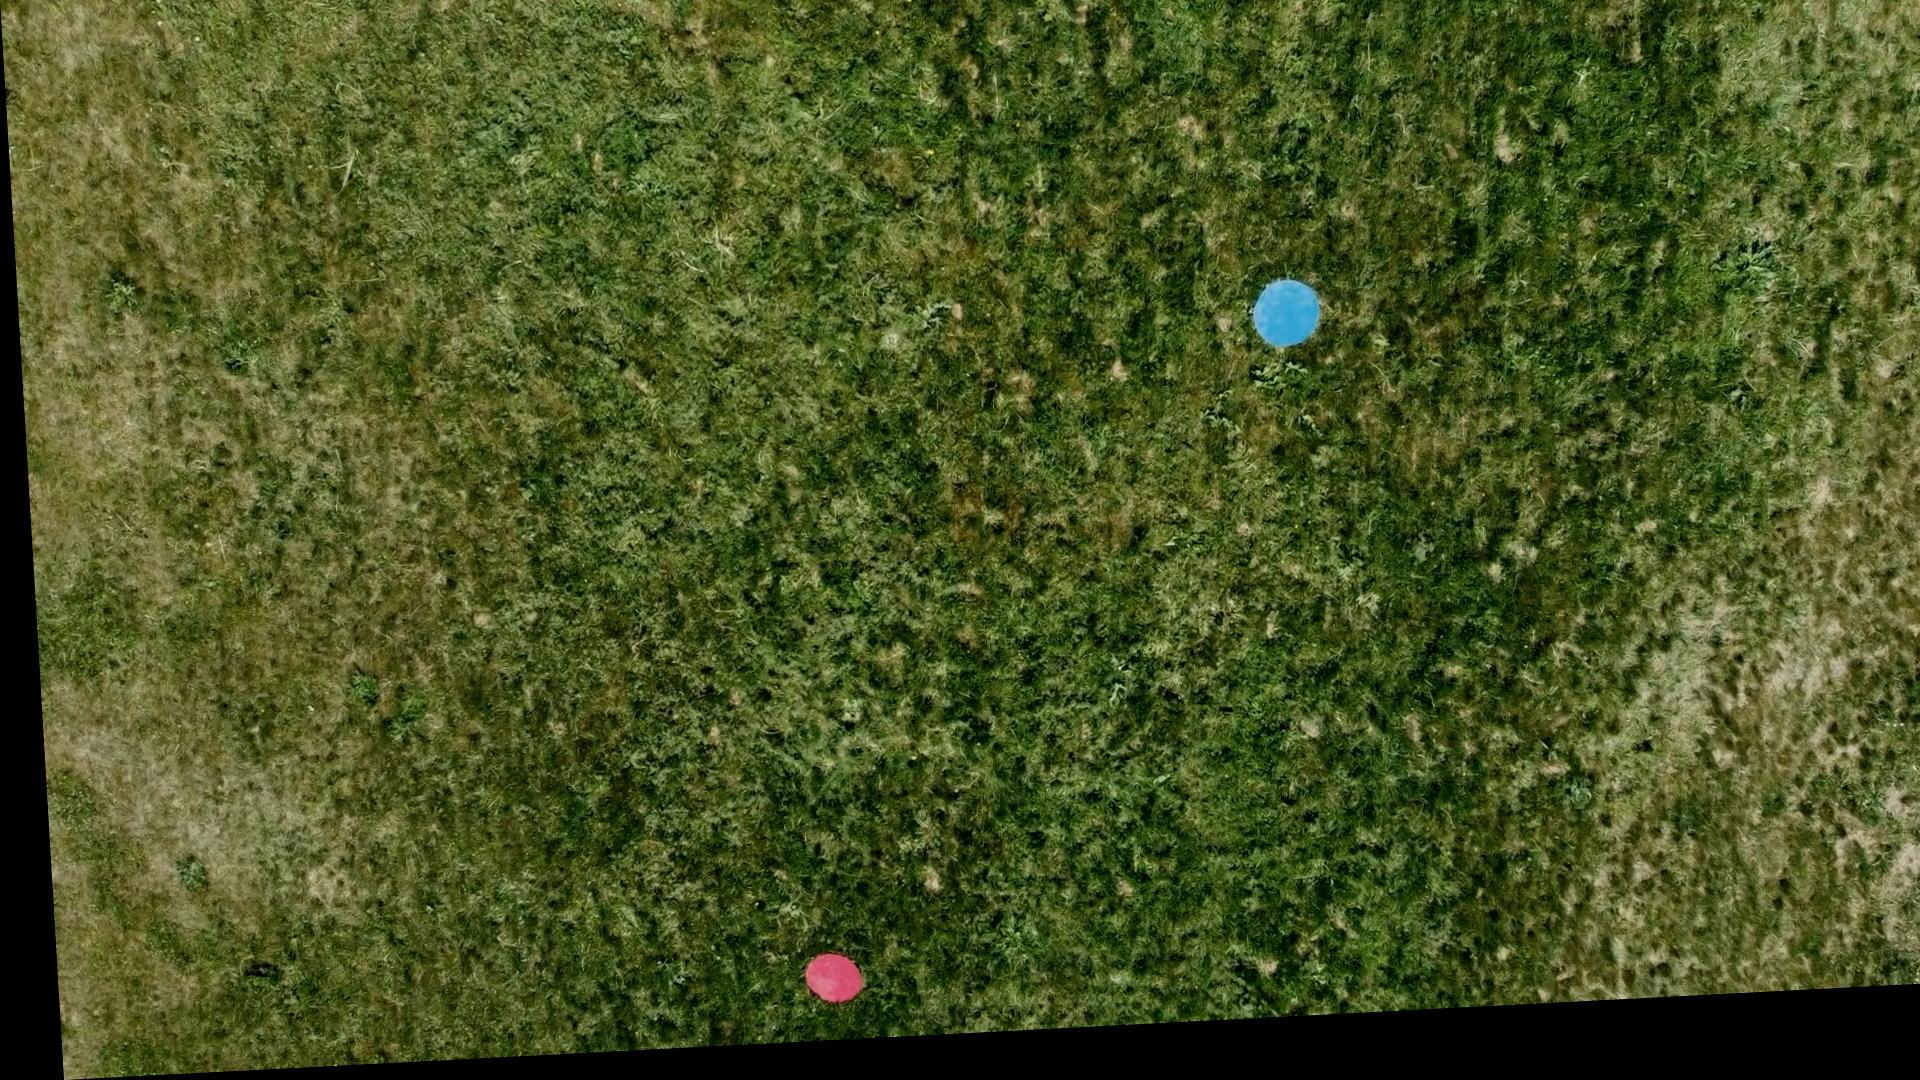Blue: (1242, 287, 1320, 367)
Red: (787, 957, 853, 1015)
